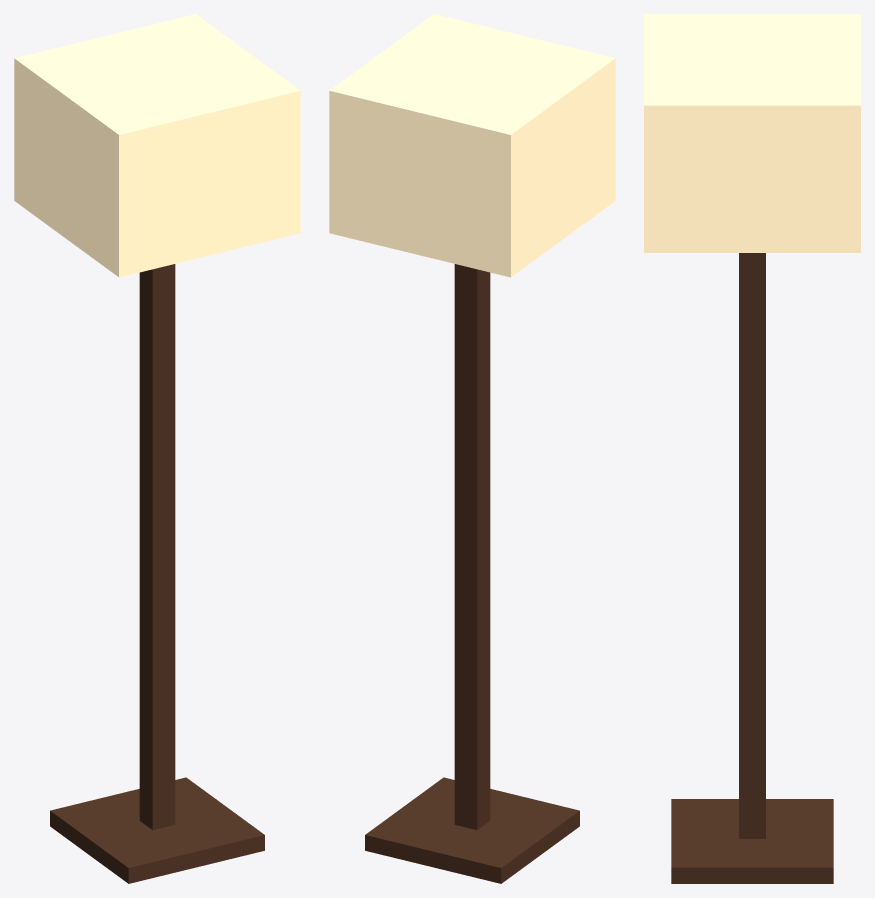
Rendered from living_lamp.glb.
3 renders of one model, left to right at view 1: azimuth 30°, elevation 25°; view 2: azimuth 150°, elevation 25°; view 3: azimuth 270°, elevation 25°, orthographic. The views are drawn at different scales.
Visible parts, largest first — view 1: Box3, Box2, Box1; view 2: Box3, Box2, Box1; view 3: Box3, Box2, Box1.
Boxes of the visible parts, x1=… form: Box3: x1=14, y1=14, x2=300, y2=277; Box2: x1=139, y1=264, x2=175, y2=830; Box1: x1=50, y1=777, x2=264, y2=883; Box3: x1=329, y1=14, x2=615, y2=277; Box2: x1=454, y1=264, x2=490, y2=830; Box1: x1=365, y1=777, x2=579, y2=883; Box3: x1=644, y1=14, x2=860, y2=252; Box2: x1=739, y1=253, x2=765, y2=838; Box1: x1=671, y1=799, x2=833, y2=883.
Bounding box in the file's own units: 0.48 × 1.93 × 0.48.
